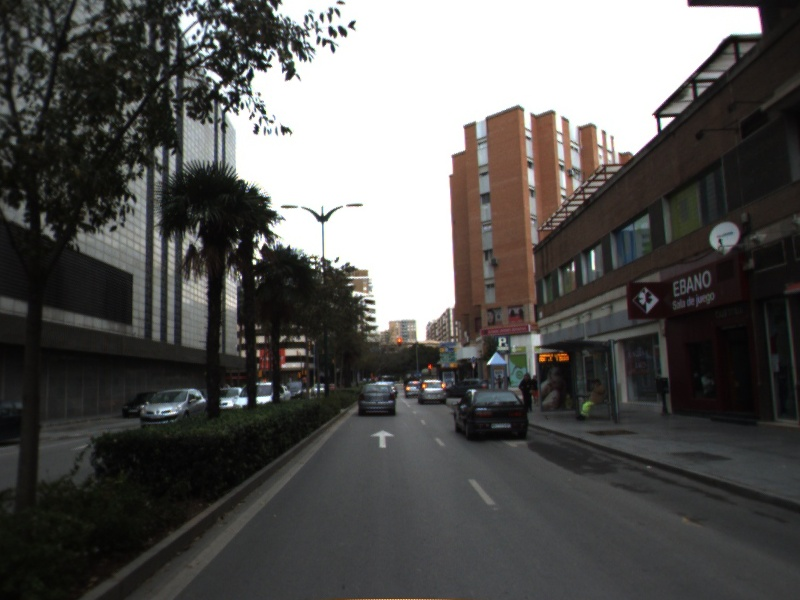STRAIGHT: (368, 428, 397, 450)
